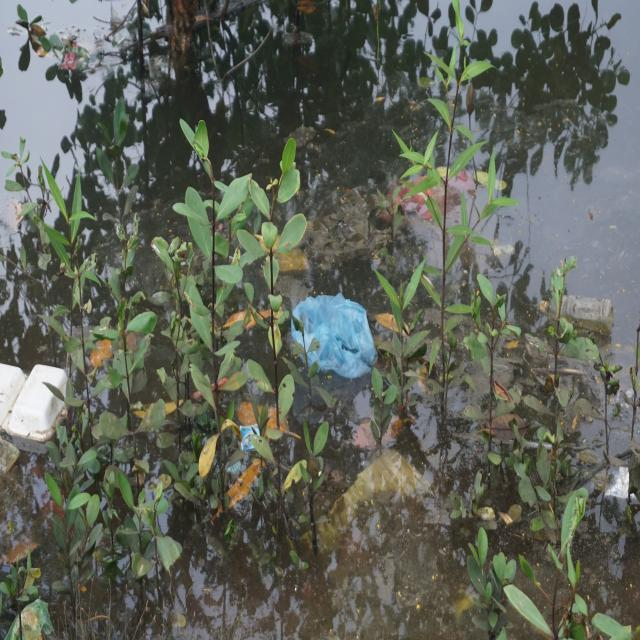Botol Plastik: (539, 286, 616, 342)
Bungkus Makanan: (1, 347, 74, 448)
Kantong Plastik: (289, 279, 379, 393)
